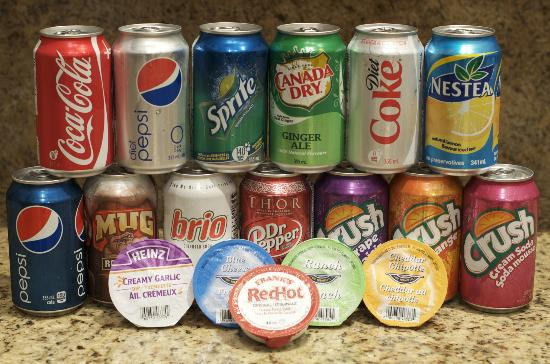coke: (32, 28, 113, 173), (346, 25, 422, 164)
